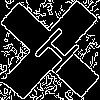H: (25, 25, 83, 84)
